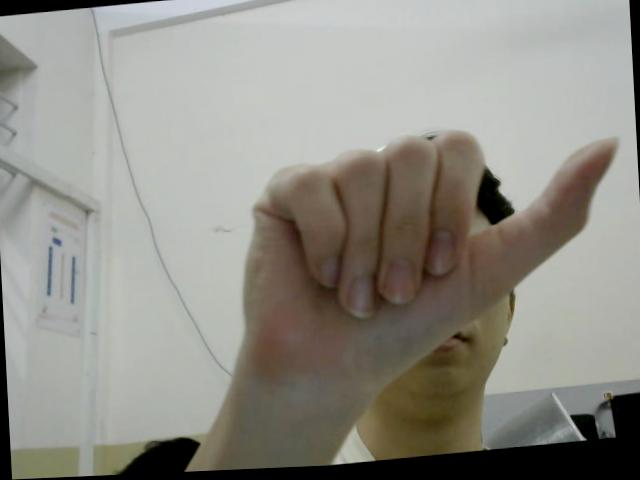A: (233, 117, 630, 373)
